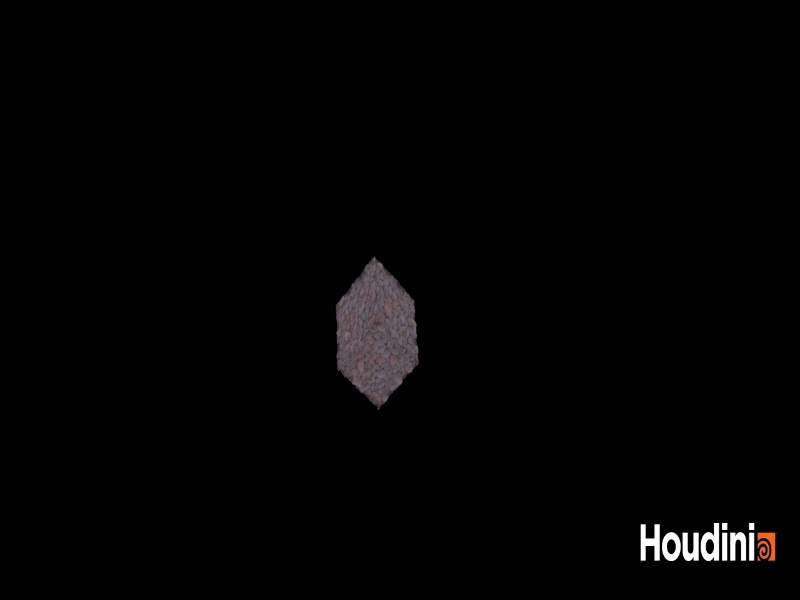waste: (324, 251, 431, 411)
